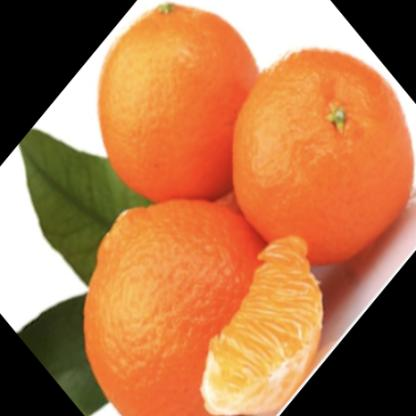fresh: (82, 10, 413, 416)
